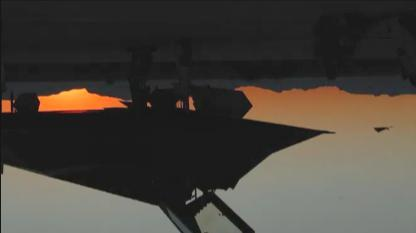E7: (1, 37, 338, 232), (371, 125, 395, 133)
